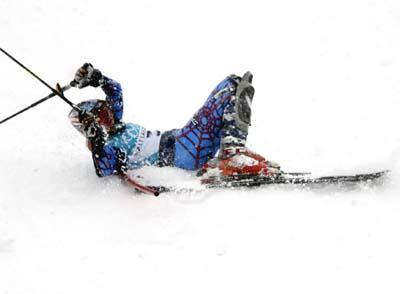fall: (60, 40, 289, 195)
